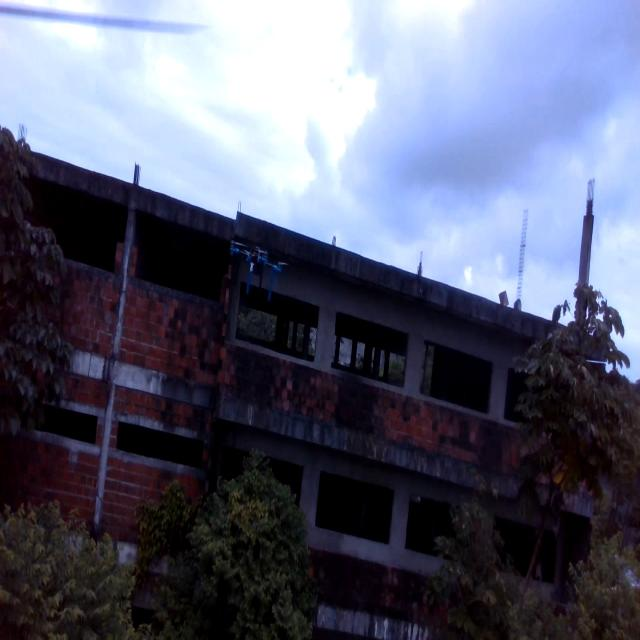-uav-: (221, 219, 297, 314)
